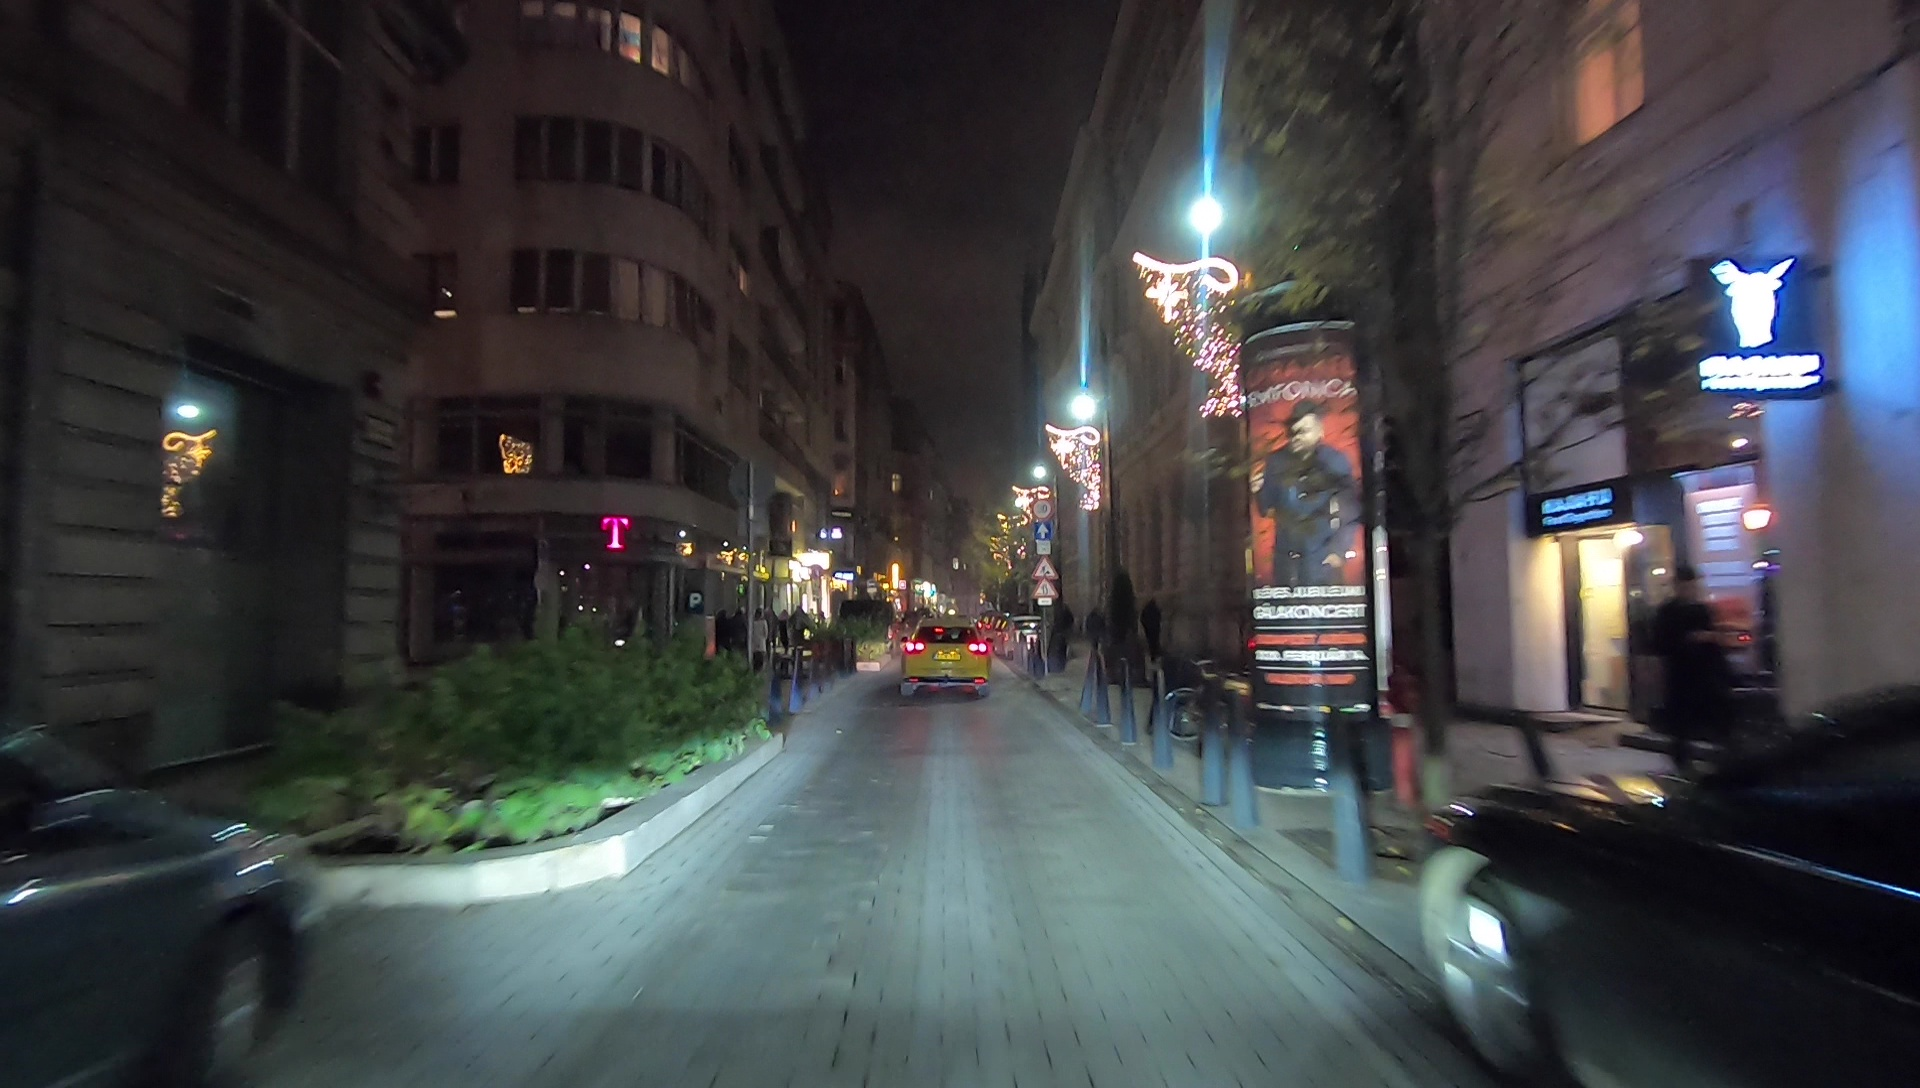person: (1645, 567, 1738, 782), (1142, 594, 1165, 663), (789, 603, 808, 656), (750, 606, 767, 667), (731, 605, 748, 661), (714, 609, 729, 661), (1086, 603, 1103, 653), (777, 608, 790, 656)
